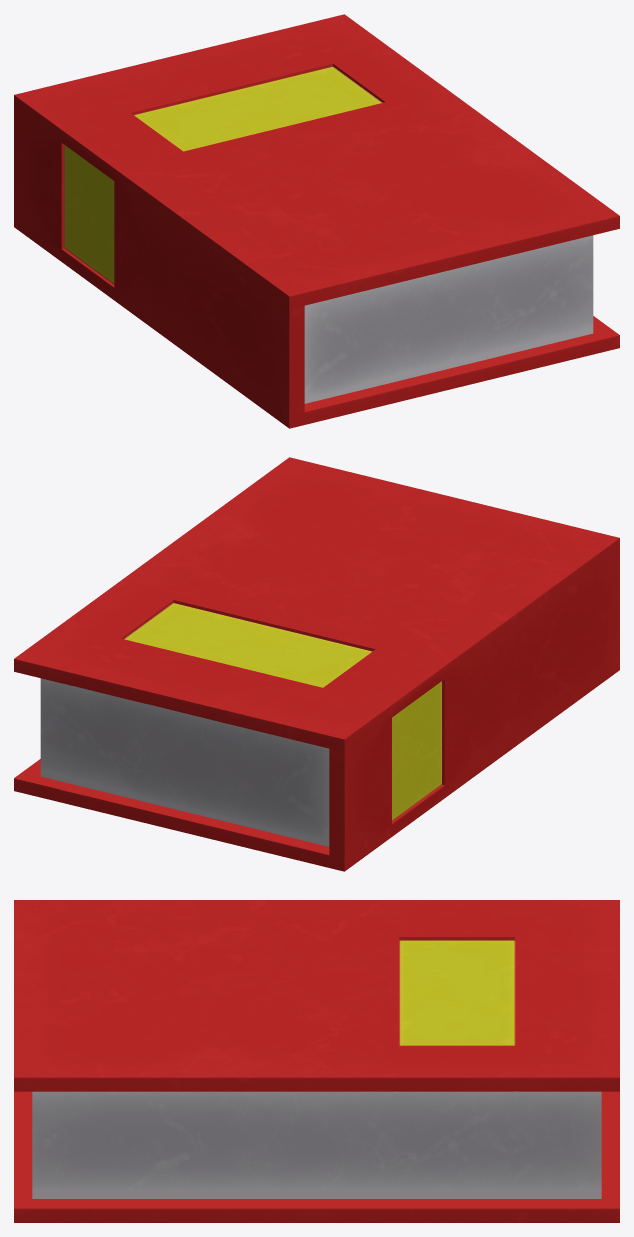
3 renders of one model, top to bottom at view 1: azimuth 30°, elevation 25°; view 2: azimuth 150°, elevation 25°; view 3: azimuth 270°, elevation 25°, orthographic. The views are drawn at different scales.
Parts seen in each view (by area): view 1: cover_low, body_low; view 2: cover_low, body_low; view 3: cover_low, body_low.
Boxes of the visible parts, left/top/right/bottom form: cover_low: left=14, top=14, right=619, bottom=428; body_low: left=304, top=235, right=593, bottom=403; cover_low: left=14, top=457, right=619, bottom=871; body_low: left=40, top=678, right=329, bottom=846; cover_low: left=14, top=900, right=619, bottom=1222; body_low: left=32, top=1091, right=601, bottom=1198.
Bounding box in the file's own units: 5.45 × 2.08 × 7.86.
Materials: 1 (1 with a texture image).
